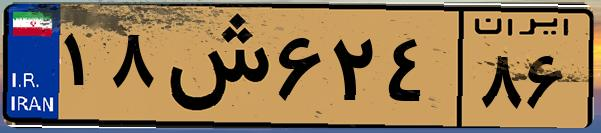1: (57, 26, 110, 100)
2: (330, 28, 385, 110)
4: (385, 28, 445, 110)
6: (270, 28, 330, 110), (525, 38, 570, 115)
8: (475, 38, 525, 113), (110, 28, 158, 98)
ش: (158, 12, 270, 120)
